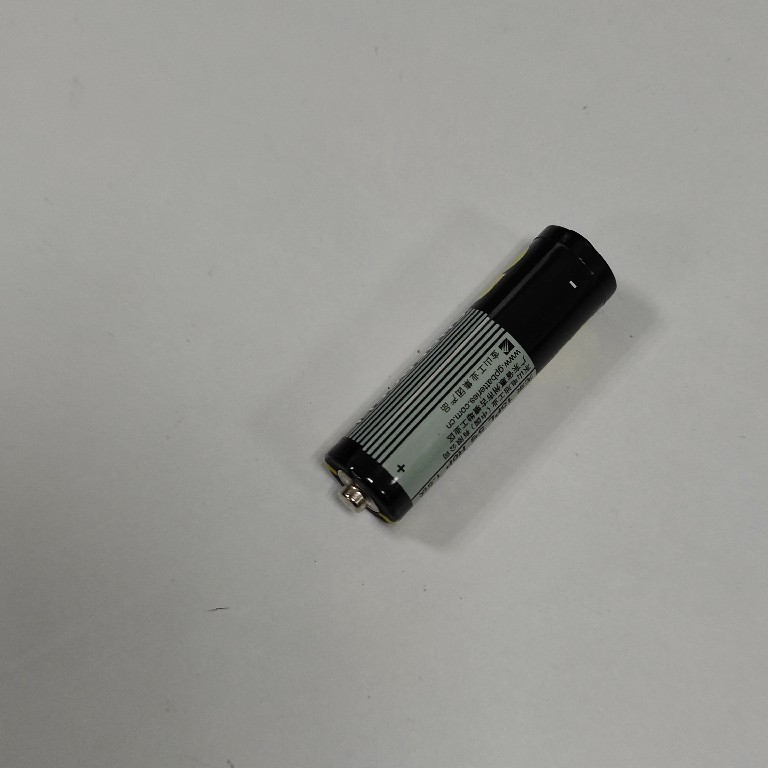charge: (317, 221, 625, 529)
